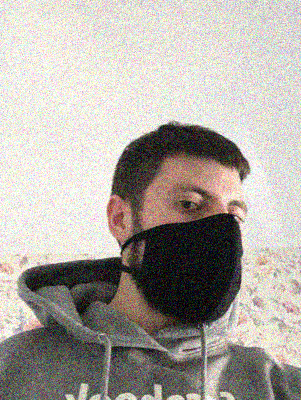with_mask: (137, 180, 247, 327)
